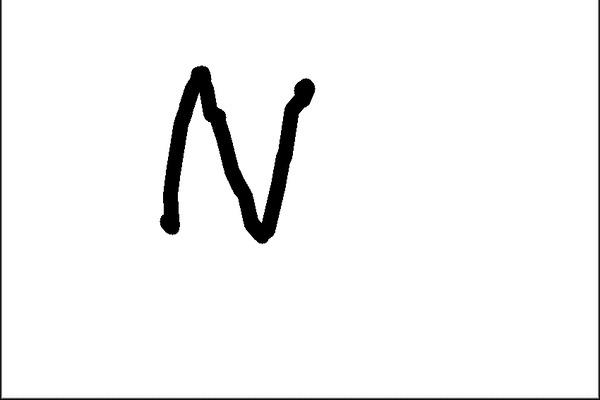N: (156, 61, 317, 246)
